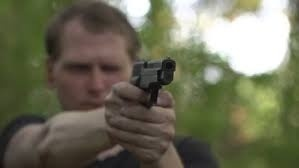pistol: (128, 58, 181, 110)
